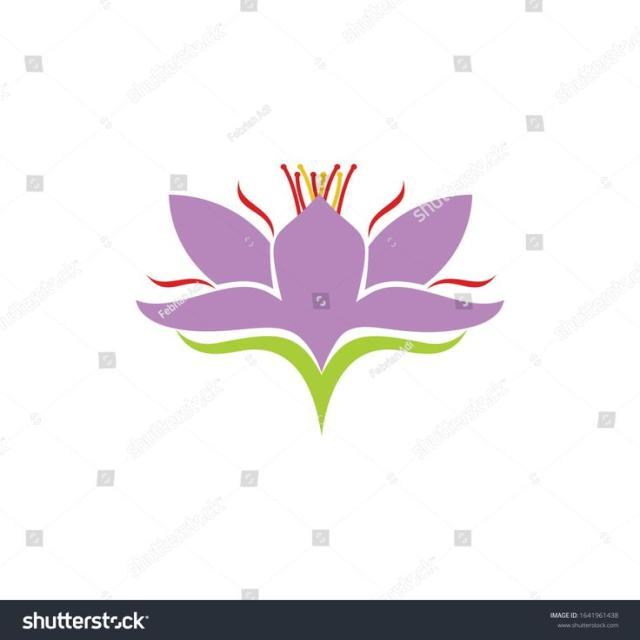Flower: (141, 166, 508, 384)
stigma: (147, 262, 230, 302), (413, 259, 492, 300)
